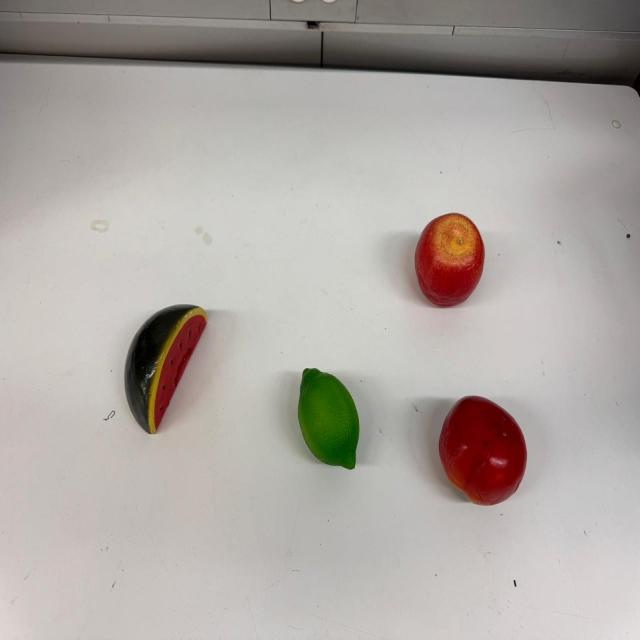apple: (414, 213, 484, 307)
lemon: (297, 369, 359, 468)
tomato: (438, 396, 527, 505)
watermelon: (125, 305, 209, 435)
